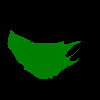mutande: (7, 29, 81, 79)
